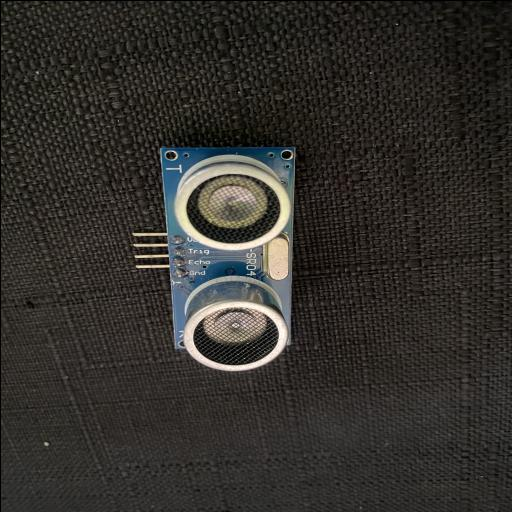Ultrasonic Sensor: (130, 145, 296, 371)
